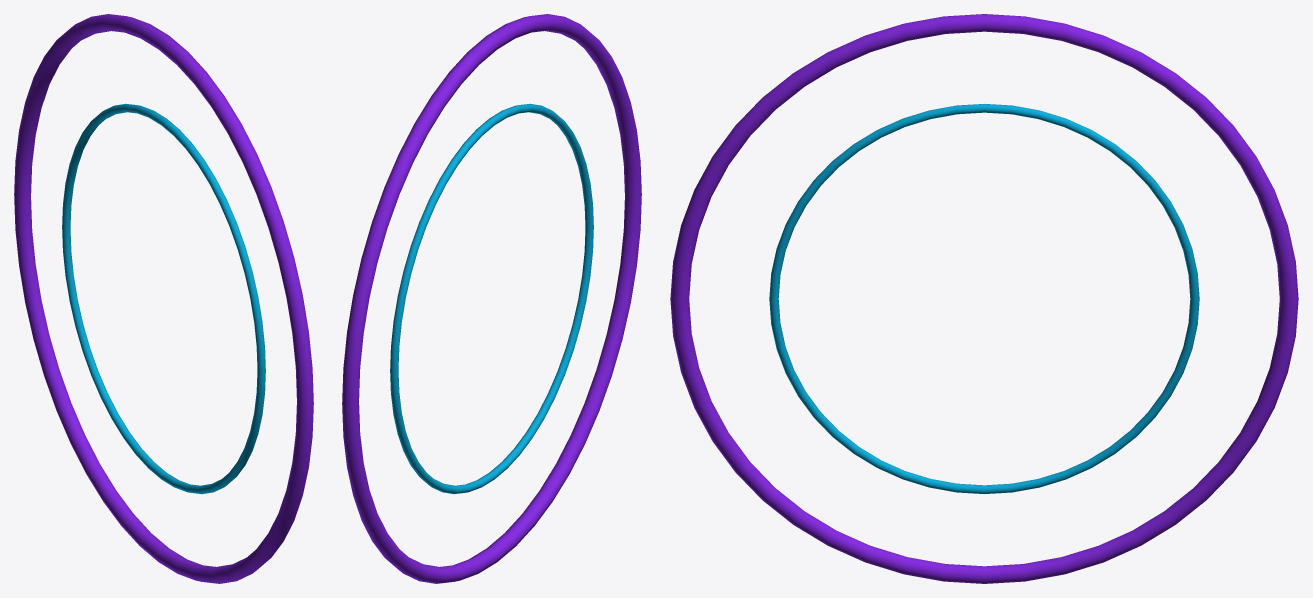
The model's file is SM_GravityRing.obj.
3 renders of one model, left to right at view 1: azimuth 30°, elevation 25°; view 2: azimuth 150°, elevation 25°; view 3: azimuth 270°, elevation 25°, orthographic. The views are drawn at different scales.
Visible parts, largest first — view 1: SM_GravityRing; view 2: SM_GravityRing; view 3: SM_GravityRing.
Part boxes in pixels (bbox=[...]): SM_GravityRing: bbox=[14, 14, 313, 583]; SM_GravityRing: bbox=[342, 14, 641, 583]; SM_GravityRing: bbox=[670, 14, 1298, 583].
Bounding box in the file's own units: 6 × 200 × 200.
